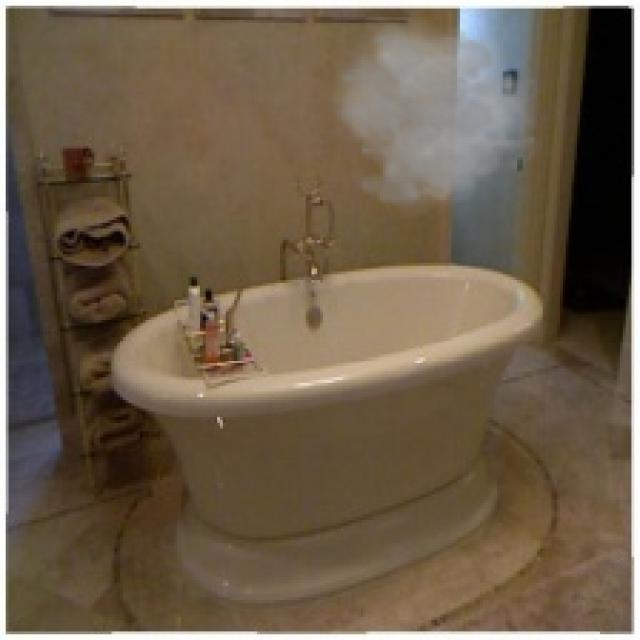Smoke: (326, 17, 546, 223)
